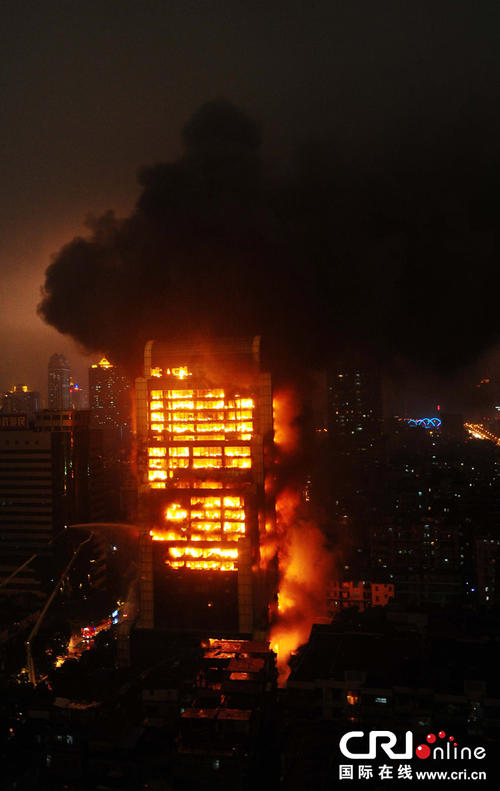fire: (137, 363, 296, 584)
smoke: (68, 140, 447, 335)
